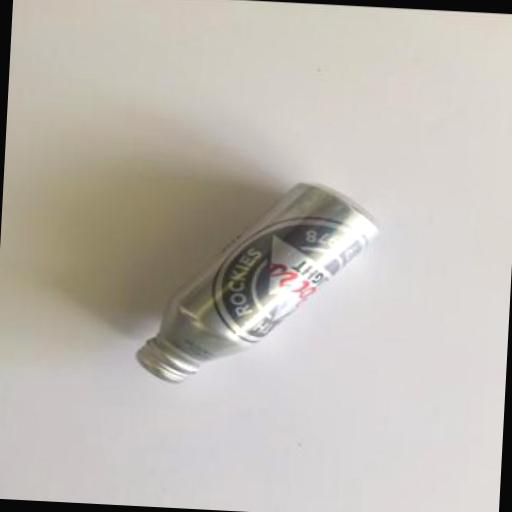metal: (133, 174, 378, 393)
